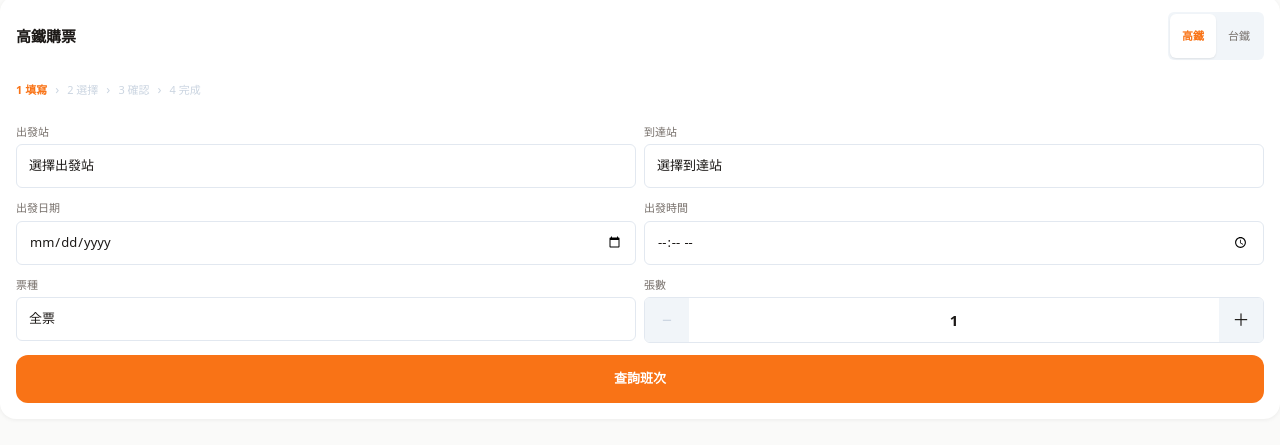
TicketBooking › 必填欄位未填時顯示驗證錯誤
The width and height of the screenshot is (1280, 445).
# 不填任何欄位直接點擊查詢
Step 1. Click the button "查詢班次" → (640, 379), box [16,355,1264,403]
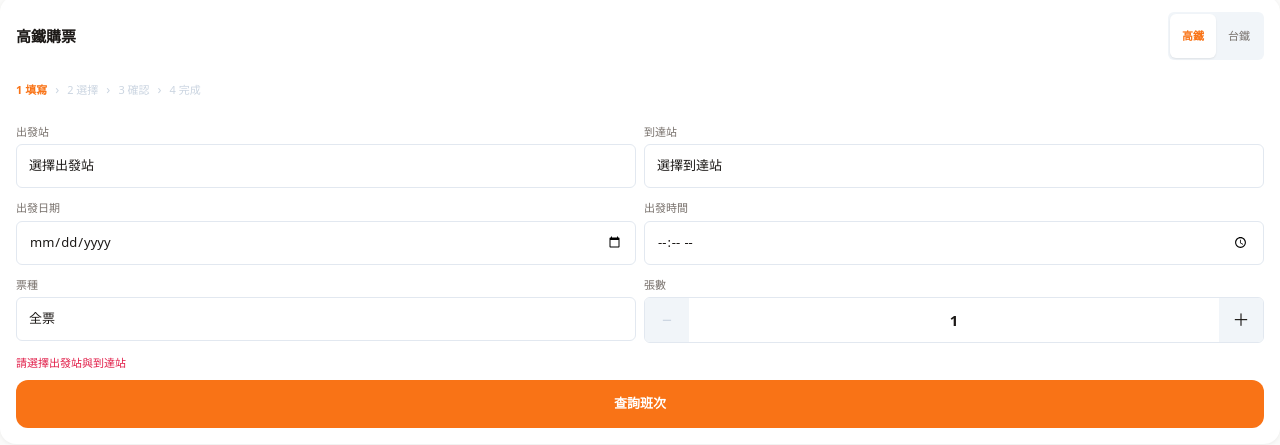
Expected: the message with class "form-error" reads "請選擇出發站與到達站", [16,355,126,370]
